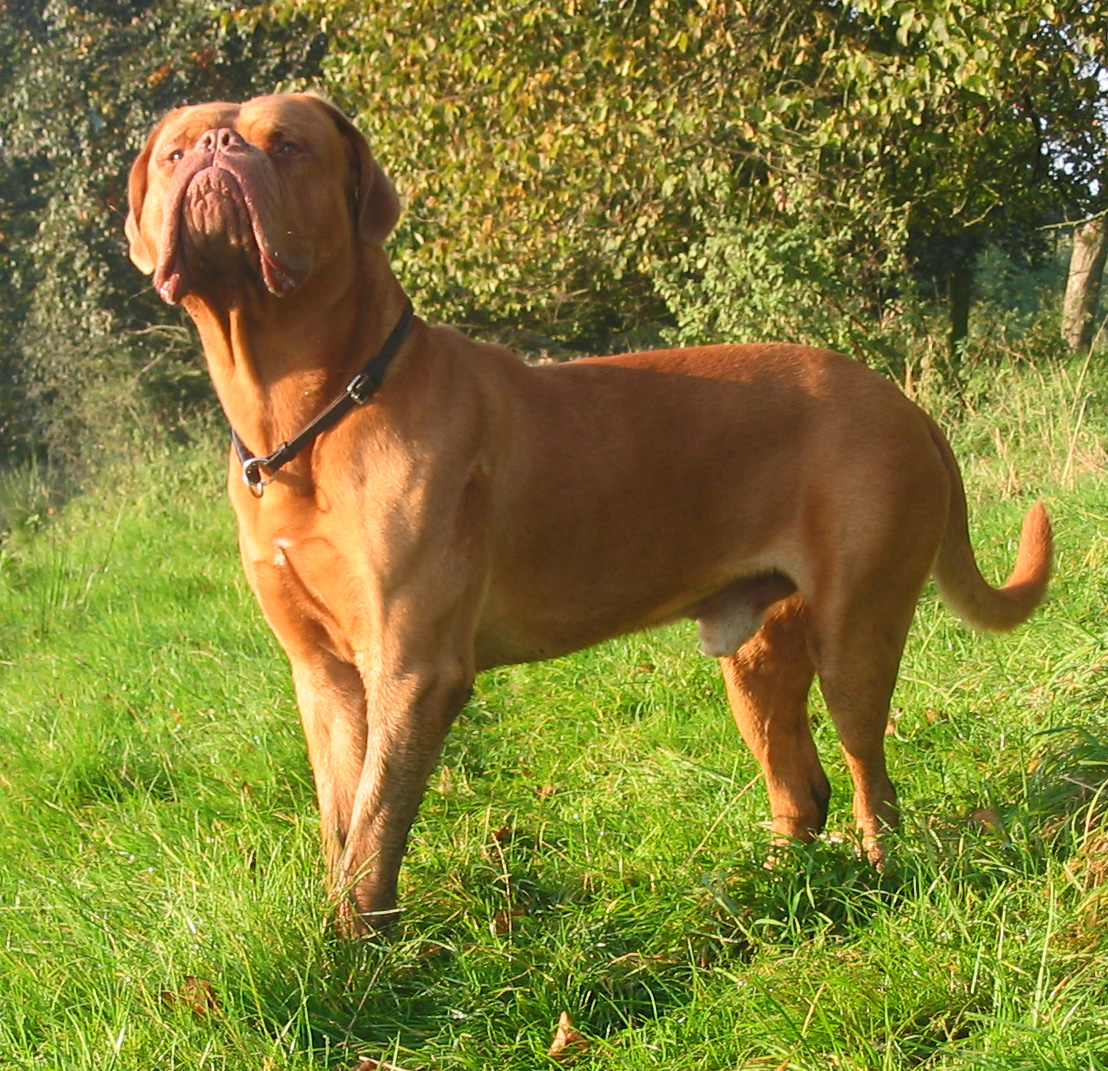dogue_de_bordeaux: (124, 95, 1056, 944)
